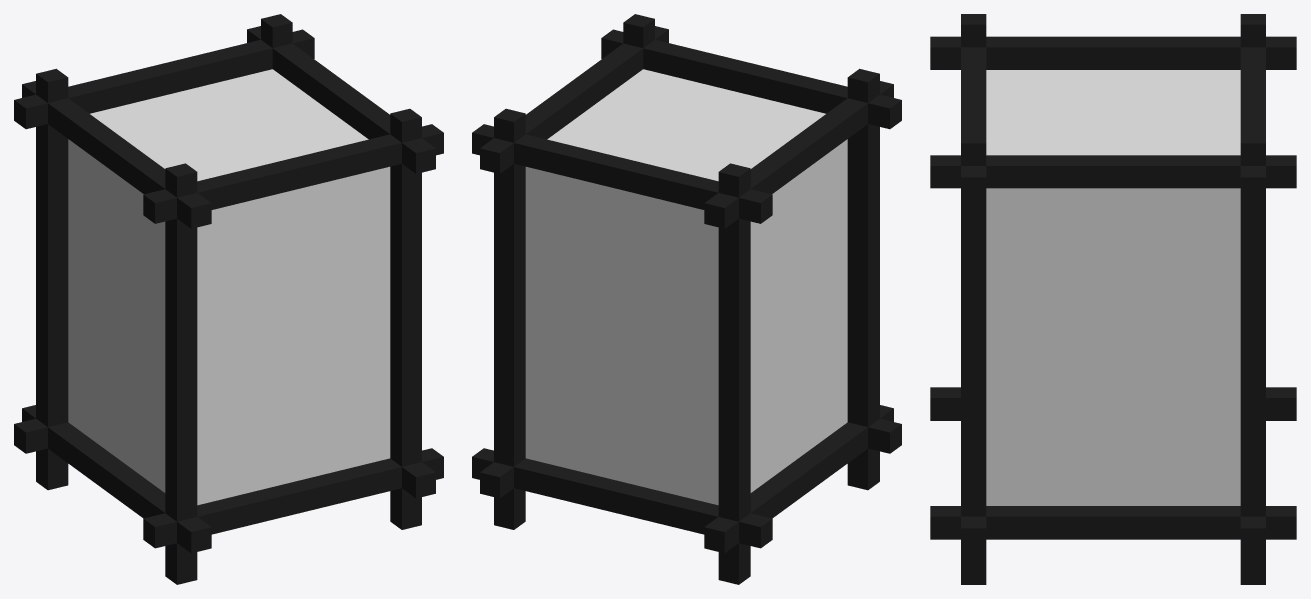
Rendered from Shrine_Lamp_3.fbx.
The picture shows the model from 3 angles, left to right: view 1: azimuth 30°, elevation 25°; view 2: azimuth 150°, elevation 25°; view 3: azimuth 270°, elevation 25°; orthographic projection. The views are drawn at different scales.
Parts seen in each view (by area): view 1: Shire_Lamp_3; view 2: Shire_Lamp_3; view 3: Shire_Lamp_3.
Part boxes in pixels (<box>): Shire_Lamp_3: <box>14,14,443,584</box>; Shire_Lamp_3: <box>472,14,901,584</box>; Shire_Lamp_3: <box>930,14,1296,584</box>.
Size of the model in its own units: 48.02 by 64.86 by 48.75.
